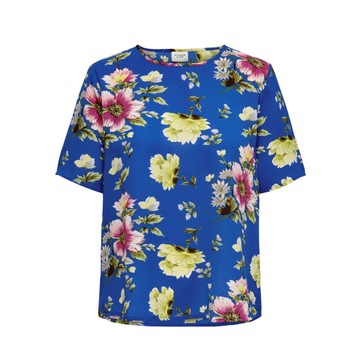C_short blouse: (57, 47, 308, 330)
